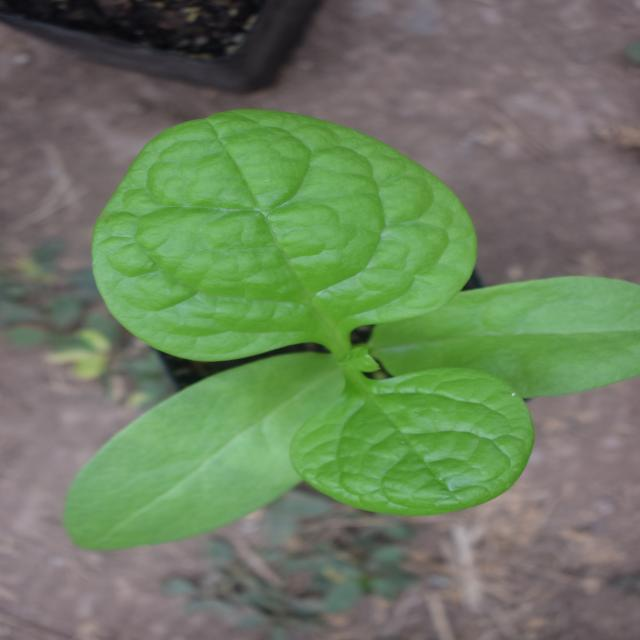Ceylon spinach: (65, 58, 549, 570)
